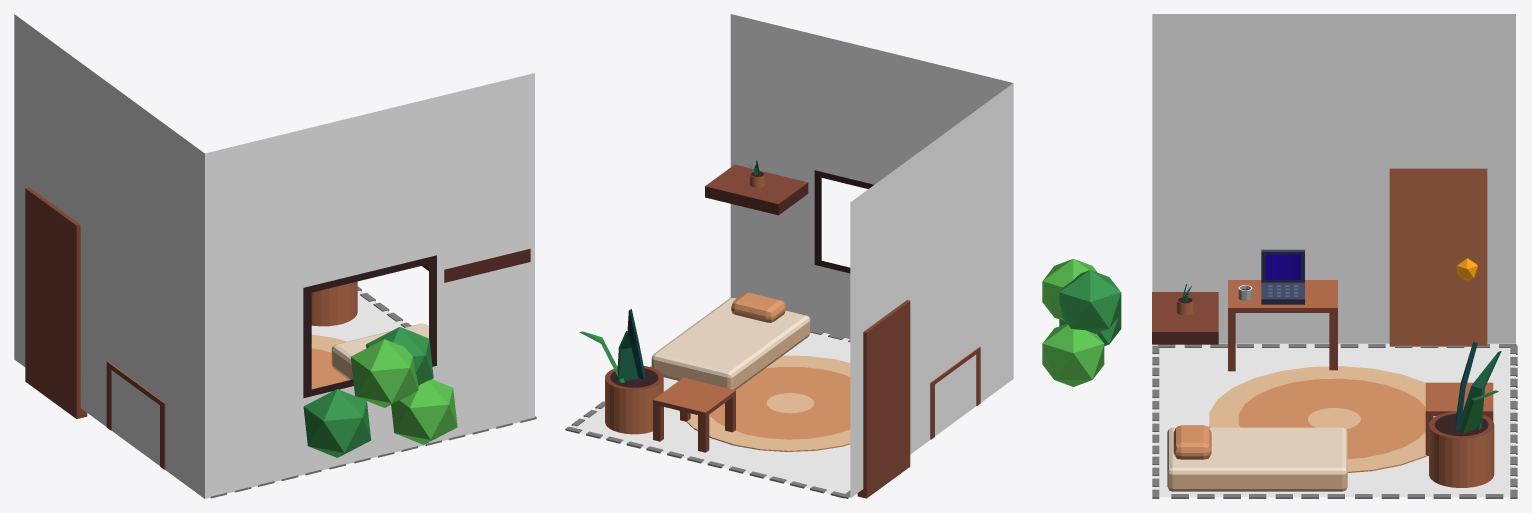
File: world.glb
3 views of the same model, side by side, from view 1: azimuth 30°, elevation 25°; view 2: azimuth 150°, elevation 25°; view 3: azimuth 270°, elevation 25° (orthographic). The views are drawn at different scales.
Visible parts, largest first — view 1: Plane.005, Plane.004, Cube.057, Icosphere.001, Icosphere.003, Icosphere.004, Plane.003, Cylinder.001, Icosphere.002, Cylinder, Cube.062, Cube.060 (+1 smaller); view 2: Plane.005, Plane.004, Cylinder, Plane.003, Cube.060, Cube.057, Cube, Cube.062, Cylinder.001, Cube.061, Cube.058, Plane.001 (+1 smaller); view 3: Plane.004, Plane.003, Cube.057, Cylinder, Cube.060, Cylinder.001, Cube.058, Cube.062, Icosphere.002, Icosphere.004, Cube.059, Cube (+5 smaller).
Part boxes in pixels (x1,y1,x2,y2): Plane.005: (205, 73, 534, 498); Plane.004: (14, 14, 204, 498); Cube.057: (25, 187, 87, 418); Icosphere.001: (303, 389, 371, 457); Icosphere.003: (350, 339, 418, 407); Icosphere.004: (391, 379, 457, 444); Plane.003: (311, 290, 403, 341); Cylinder.001: (311, 281, 357, 326); Icosphere.002: (366, 327, 433, 385); Cylinder: (311, 334, 348, 389); Cube.062: (422, 248, 530, 282); Cube.060: (331, 323, 428, 379); Plane.005: (730, 14, 1012, 338); Plane.004: (850, 83, 1013, 497); Cylinder: (679, 355, 850, 451); Plane.003: (571, 332, 850, 498); Cube.060: (651, 298, 810, 390); Cube.057: (857, 300, 910, 498); Cube: (653, 377, 735, 452); Cube.062: (705, 164, 808, 215); Cylinder.001: (605, 366, 663, 434); Cube.061: (731, 292, 786, 322); Cube.058: (930, 346, 980, 439); Plane.001: (617, 331, 638, 382); Plane.004: (1152, 14, 1515, 343); Plane.003: (1152, 343, 1515, 497); Cube.057: (1389, 168, 1487, 346); Cylinder: (1209, 366, 1435, 472); Cube.060: (1167, 427, 1347, 491); Cylinder.001: (1429, 411, 1494, 487); Cube.058: (1228, 280, 1337, 371); Cube.062: (1152, 292, 1218, 344); Icosphere.002: (1059, 270, 1121, 333); Icosphere.004: (1042, 323, 1104, 386); Cube.059: (1261, 249, 1304, 304); Cube: (1425, 382, 1493, 455).
Size of the model in its own units: 5.08 by 5.15 by 6.53.
Materials: 1 (1 with a texture image).
